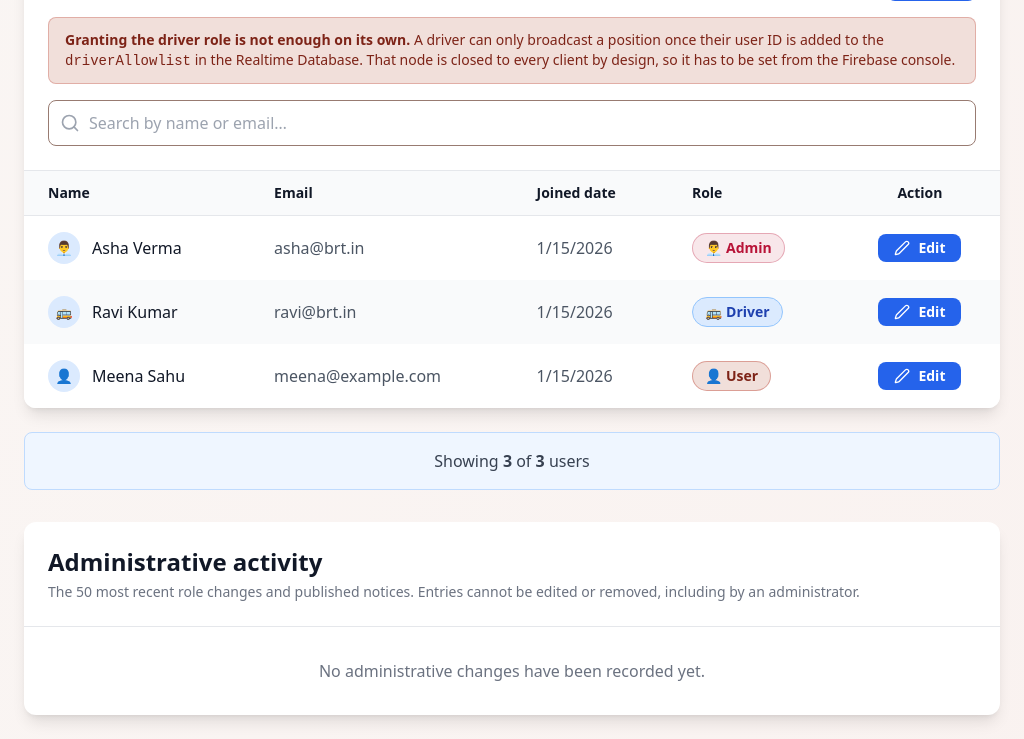
Test: changing somebody's role › explains a write that threw without leaking the cause
(page scrolled)
Click the button "Edit" in the row of "Meena Sahu": (920, 376) x1=878 y1=362 x2=962 y2=390
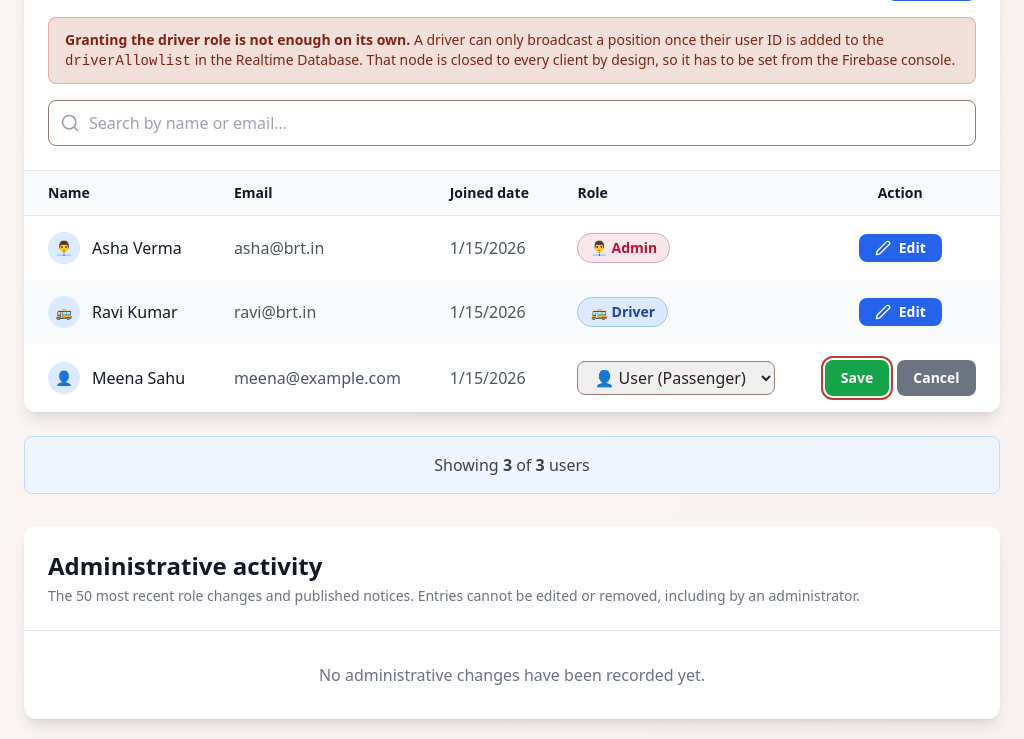
Click the button "Save": (857, 378) x1=825 y1=360 x2=889 y2=396
(page scrolled)
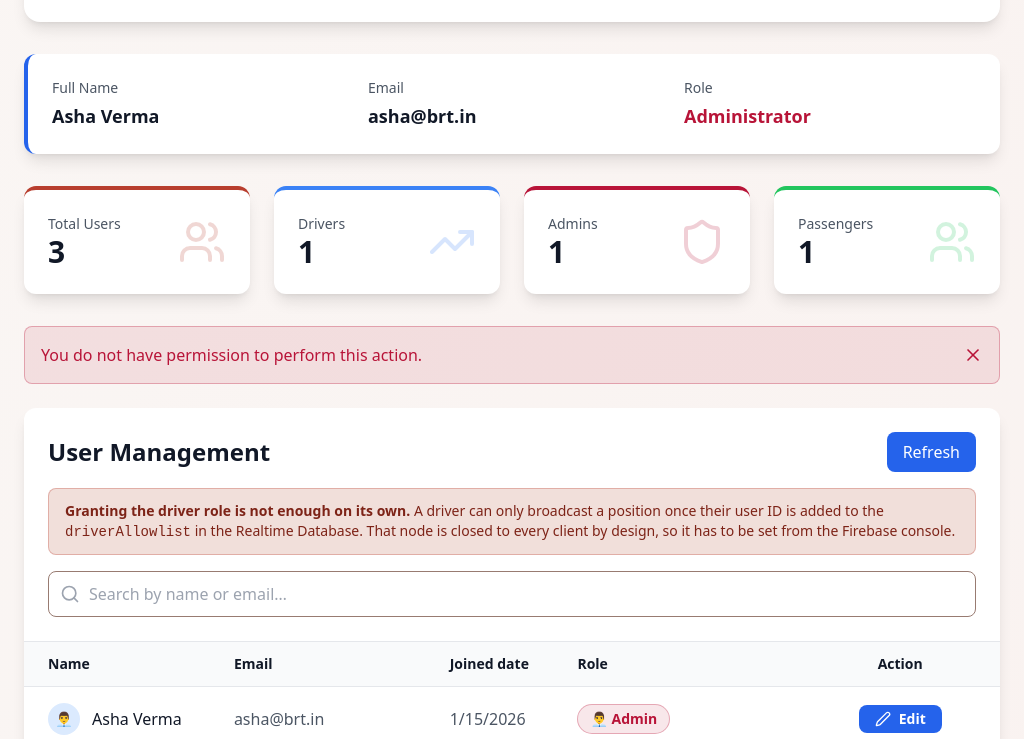
Result: the text "You do not have permission to perform this action." is shown at x1=24 y1=326 x2=1000 y2=384
